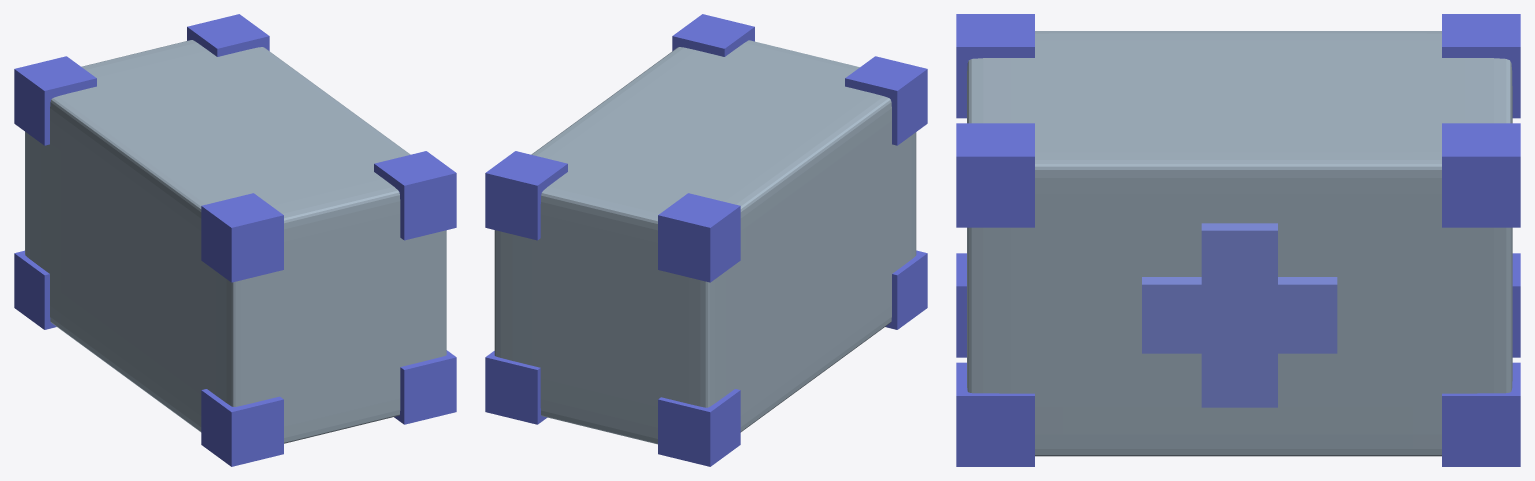
File: HealthBX.fbx
3 renders of one model, left to right at view 1: azimuth 30°, elevation 25°; view 2: azimuth 150°, elevation 25°; view 3: azimuth 270°, elevation 25°, orthographic. The views are drawn at different scales.
Visible parts, largest first — view 1: Cube, Cube.005, Cube.009, Cube.004, Cube.003, Cube.008, Cube.002, Cube.007; view 2: Cube, Cube.003, Cube.007, Cube.002, Cube.005, Cube.006, Cube.004, Cube.009; view 3: Cube, Cube.001, Cube.002, Cube.004, Cube.008, Cube.006, Cube.005, Cube.003, Cube.009, Cube.007.
Part boxes in pixels (<box>): Cube: <box>25,40,446,443</box>; Cube.005: <box>201,193,283,282</box>; Cube.009: <box>201,389,283,466</box>; Cube.004: <box>374,151,456,240</box>; Cube.003: <box>14,56,96,145</box>; Cube.008: <box>394,350,456,424</box>; Cube.002: <box>187,14,269,56</box>; Cube.007: <box>14,250,56,329</box>; Cube: <box>494,40,916,444</box>; Cube.003: <box>658,193,740,282</box>; Cube.007: <box>658,389,740,466</box>; Cube.002: <box>485,151,567,240</box>; Cube.005: <box>845,56,927,145</box>; Cube.006: <box>485,351,547,424</box>; Cube.004: <box>672,14,754,56</box>; Cube.009: <box>885,250,927,329</box>; Cube: <box>967,31,1512,456</box>; Cube.001: <box>1142,223,1337,407</box>; Cube.002: <box>1442,123,1520,227</box>; Cube.004: <box>956,123,1034,227</box>; Cube.008: <box>956,362,1034,466</box>; Cube.006: <box>1442,362,1520,466</box>; Cube.005: <box>956,14,1034,118</box>; Cube.003: <box>1442,14,1520,118</box>; Cube.009: <box>956,253,966,357</box>; Cube.007: <box>1512,253,1520,357</box>.
Size of the model in its own units: 216 by 348 by 211.
